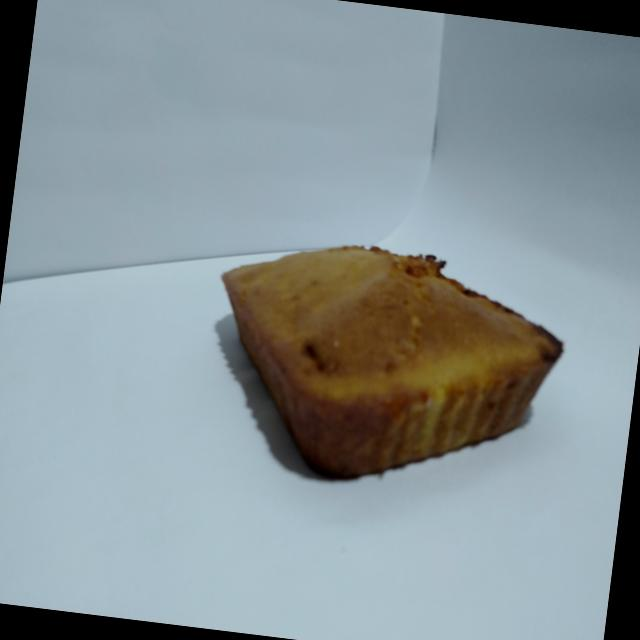Sopa: (184, 215, 580, 522)
